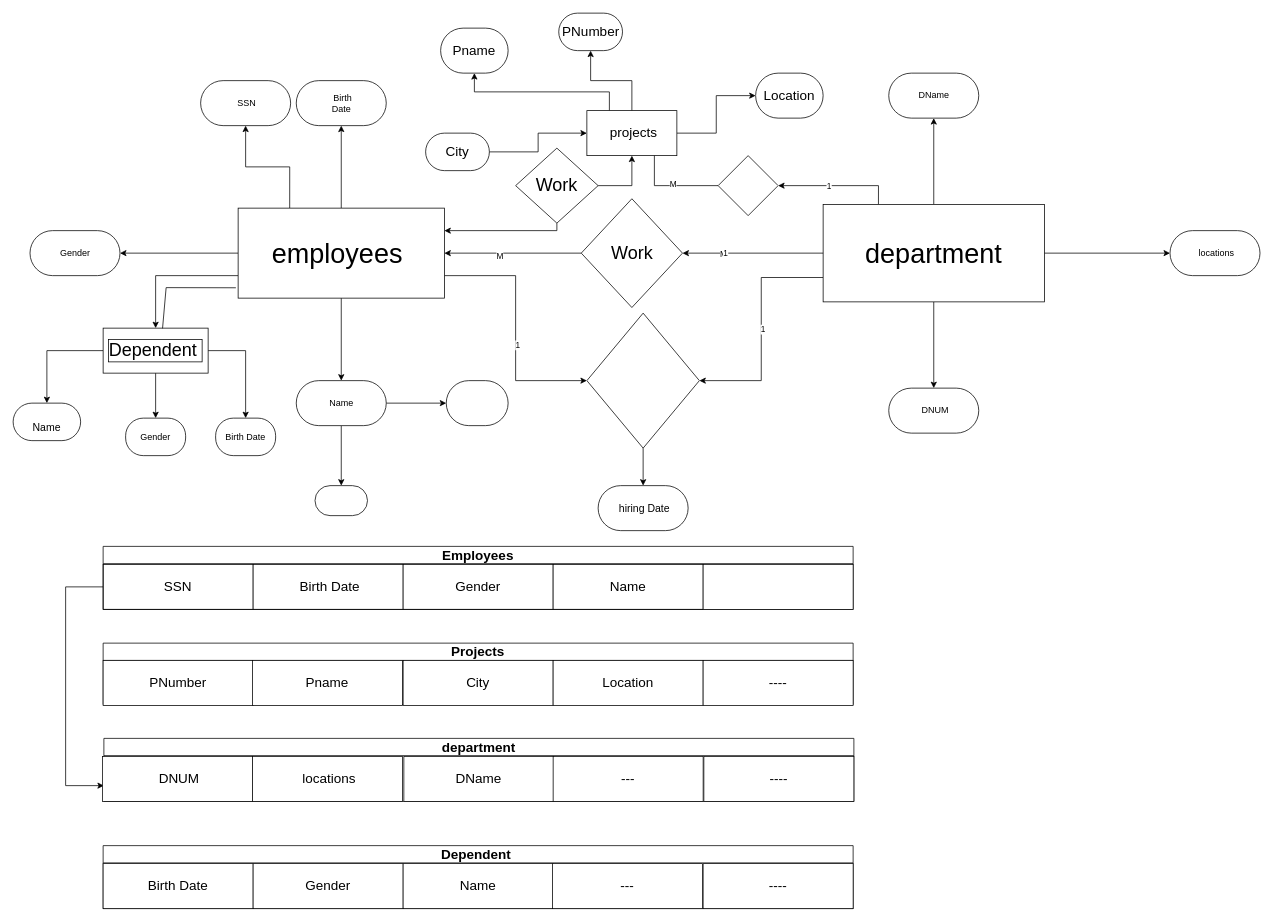
Image size: 1274x922. Some labels were removed from this diagram. The shapes that lost their labels are listed below. From the top down, each one's centre as x and y in pixels, then its label:
At point (747, 185): "Have".
At point (642, 380): "manage".
At point (477, 403): "Fname".
At point (341, 500): "Lname".
At point (777, 586): "Superviser".
